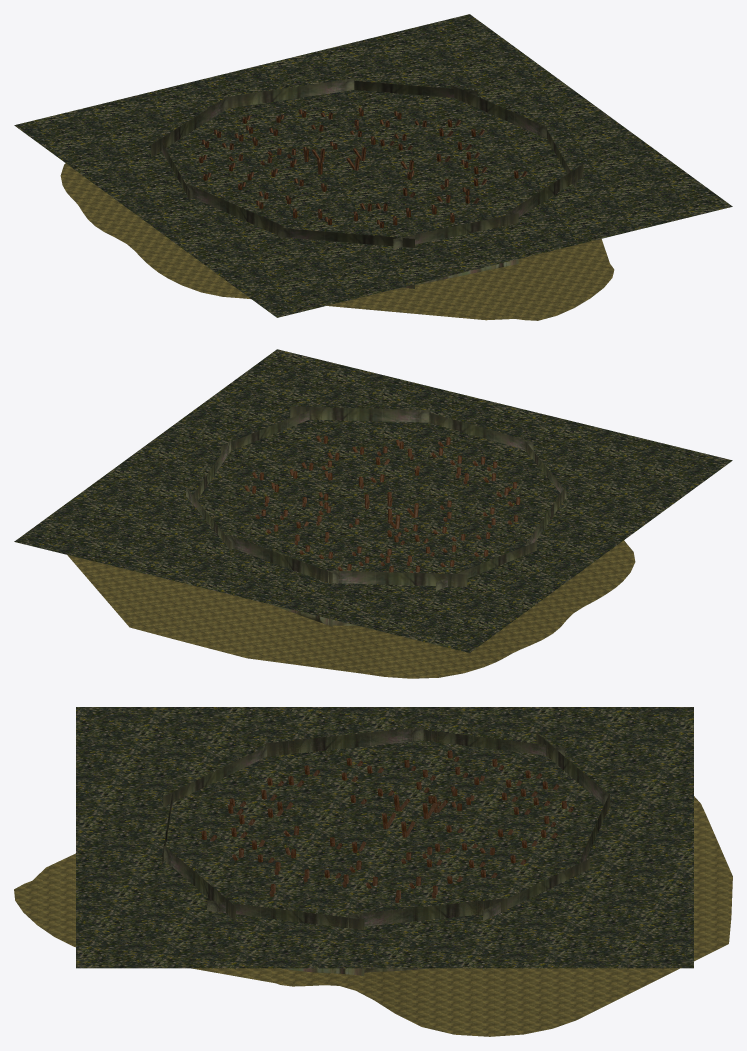
3 renders of one model, top to bottom at view 1: azimuth 30°, elevation 25°; view 2: azimuth 150°, elevation 25°; view 3: azimuth 270°, elevation 25°, orthographic. The views are drawn at different scales.
Visible parts, largest first — view 1: treetops, offroad_grass, bg.001, wall_tree; view 2: treetops, offroad_grass, bg.001, wall_tree; view 3: treetops, offroad_grass, bg.001, wall_tree.
Boxes of the visible parts, left/top/right/bottom form: treetops: left=14, top=14, right=732, bottom=317; offroad_grass: left=60, top=163, right=614, bottom=320; bg.001: left=151, top=78, right=583, bottom=289; wall_tree: left=199, top=108, right=527, bottom=227; treetops: left=14, top=349, right=732, bottom=652; offroad_grass: left=67, top=540, right=635, bottom=678; bg.001: left=186, top=405, right=566, bottom=626; wall_tree: left=244, top=435, right=520, bottom=572; treetops: left=76, top=707, right=693, bottom=968; offroad_grass: left=14, top=796, right=732, bottom=1036; bg.001: left=162, top=726, right=609, bottom=976; wall_tree: left=201, top=750, right=573, bottom=902.
Bounding box in the file's own units: 272543 × 34877 × 294392.
20 materials, 20 textured.
